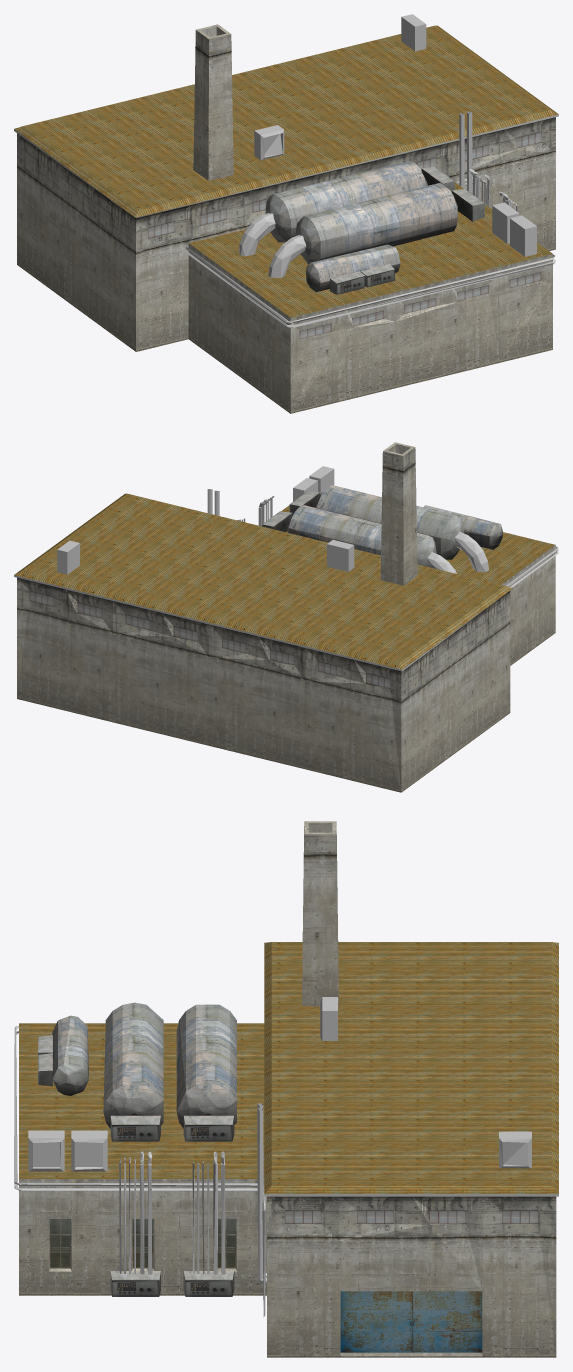
The model's file is Building_3_LOD02.fbx.
3 renders of one model, top to bottom at view 1: azimuth 30°, elevation 25°; view 2: azimuth 150°, elevation 25°; view 3: azimuth 270°, elevation 25°, orthographic. The views are drawn at different scales.
Parts seen in each view (by area): view 1: Building_3_LOD02; view 2: Building_3_LOD02; view 3: Building_3_LOD02.
Part boxes in pixels (left/top/right/bottom): Building_3_LOD02: left=14, top=14, right=558, bottom=413; Building_3_LOD02: left=14, top=442, right=558, bottom=792; Building_3_LOD02: left=14, top=821, right=558, bottom=1357.
Bounding box in the file's own units: 19.45 × 12.27 × 17.83.
